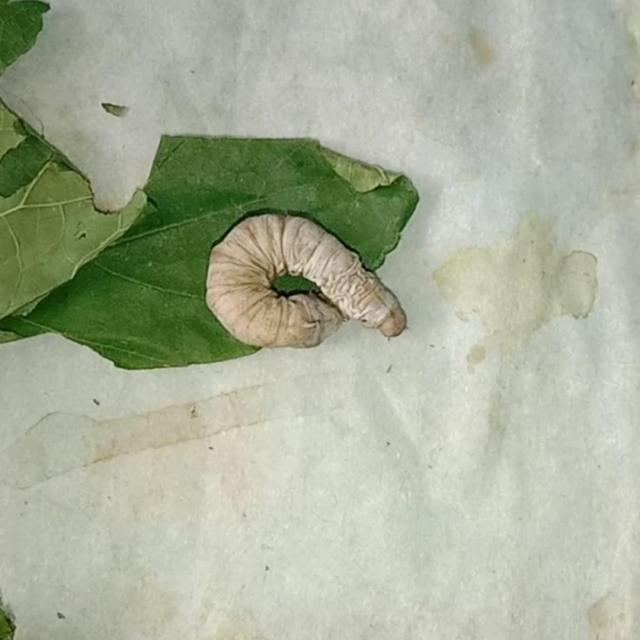Grasserie: (182, 194, 428, 372)
